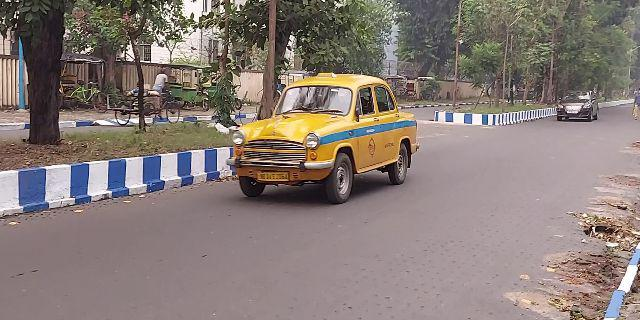Car: (224, 68, 420, 203), (555, 90, 601, 125)
